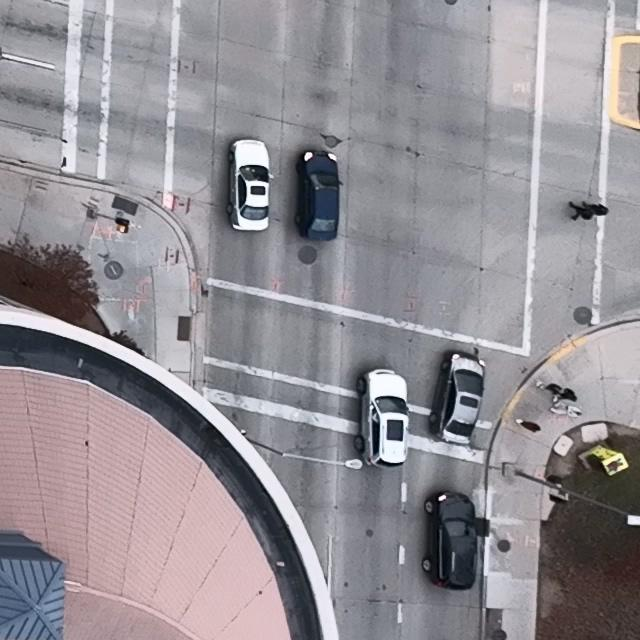car: (353, 368, 411, 471), (421, 489, 479, 590), (428, 350, 486, 446), (294, 149, 344, 241), (226, 138, 274, 232)
